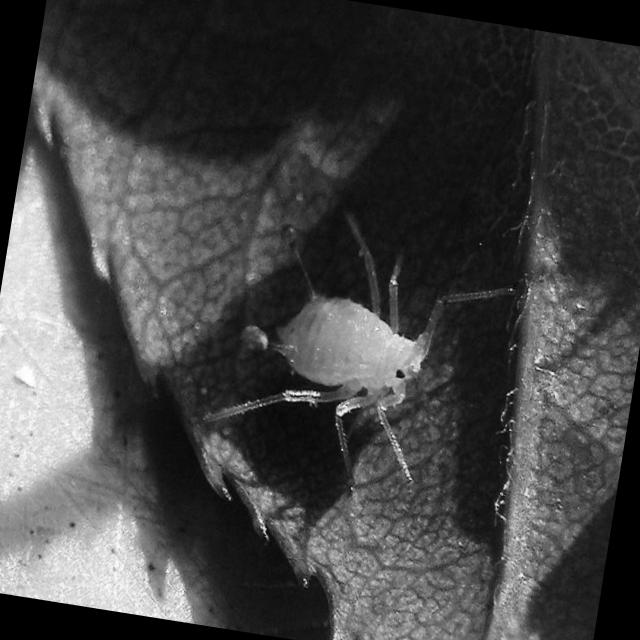Aphids: (188, 186, 544, 495)
